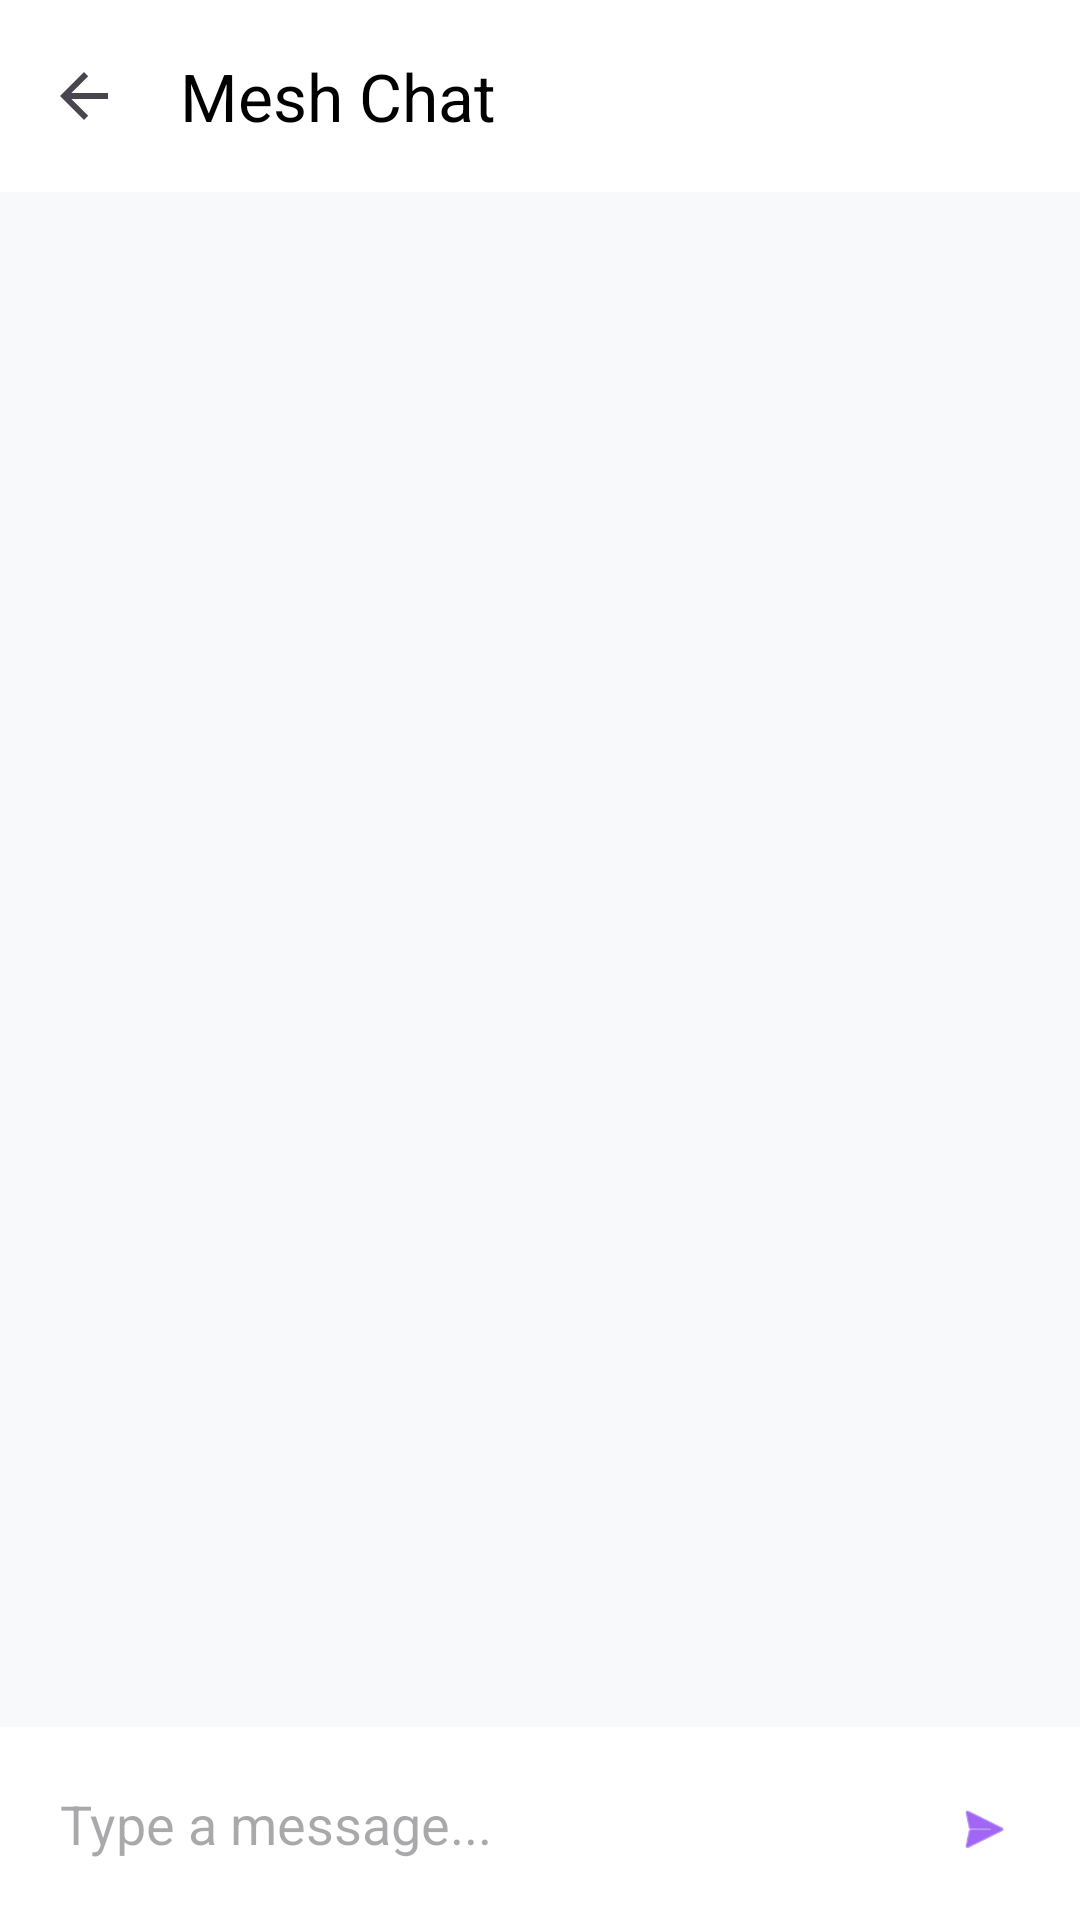

Icons on this 1080px×1920px Android screen, each with the point to tap as point (x, y):
send: point (984, 1829)
